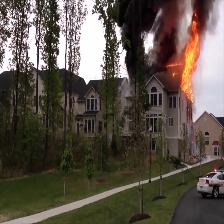fire: (185, 29, 198, 95)
smoke: (122, 1, 177, 63), (198, 0, 214, 25)
